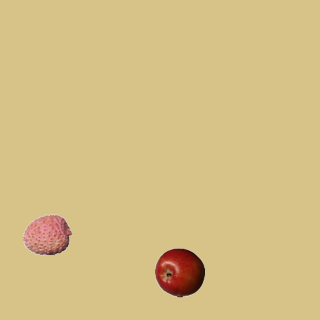Apple Braeburn: (154, 247, 204, 297)
Lychee: (22, 209, 72, 259)
